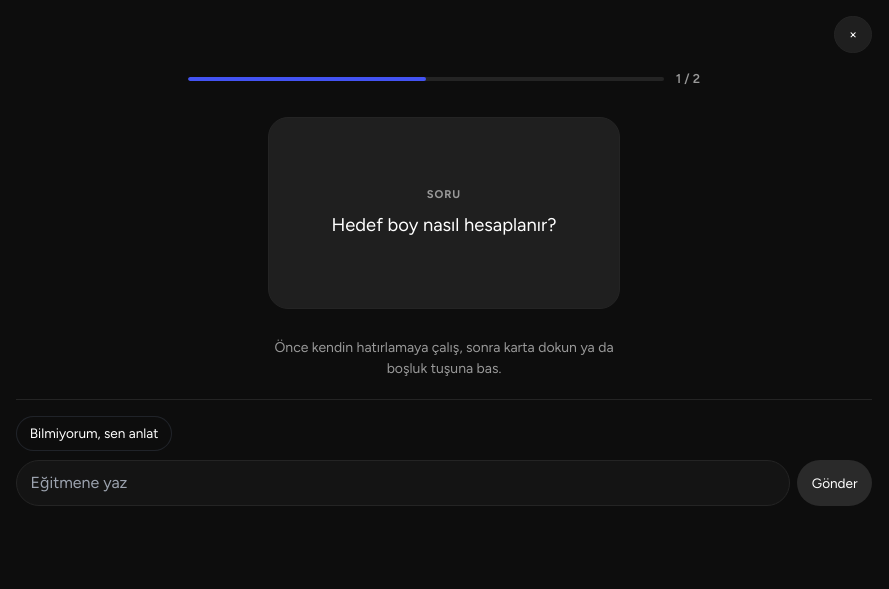
Scenario: exam-prep flashcards — reveal before self-assessment › moves to the next card with the question side and self-assessment hidden again
Expected: the text "Hedef boy nasıl hesaplanır?" is shown, x1=332 y1=214 x2=556 y2=236
Click the button with aria-label "Kartı çevir, cevabı göster".
click(444, 213)  # box x1=268 y1=117 x2=620 y2=309
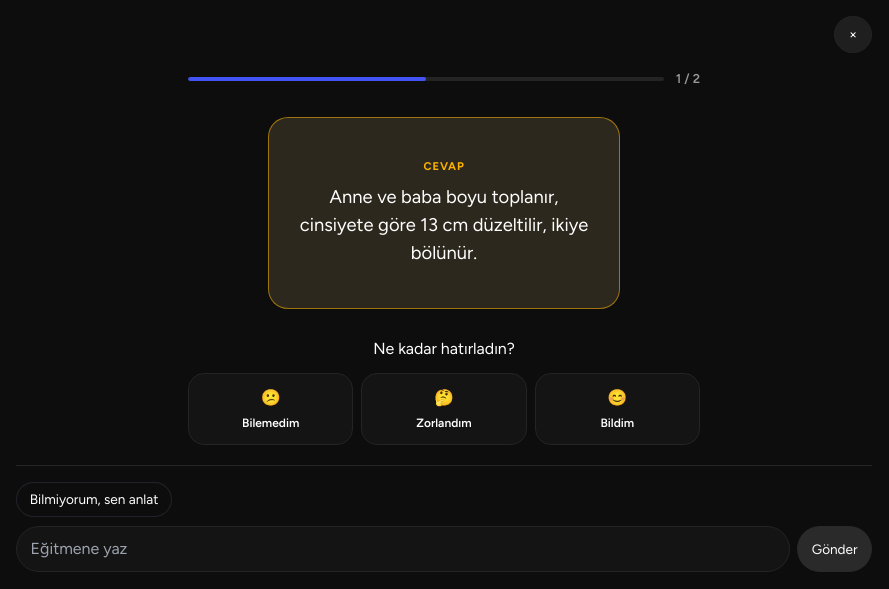
Click the button "😊 Bildim".
click(617, 409)  # box x1=535 y1=373 x2=700 y2=445
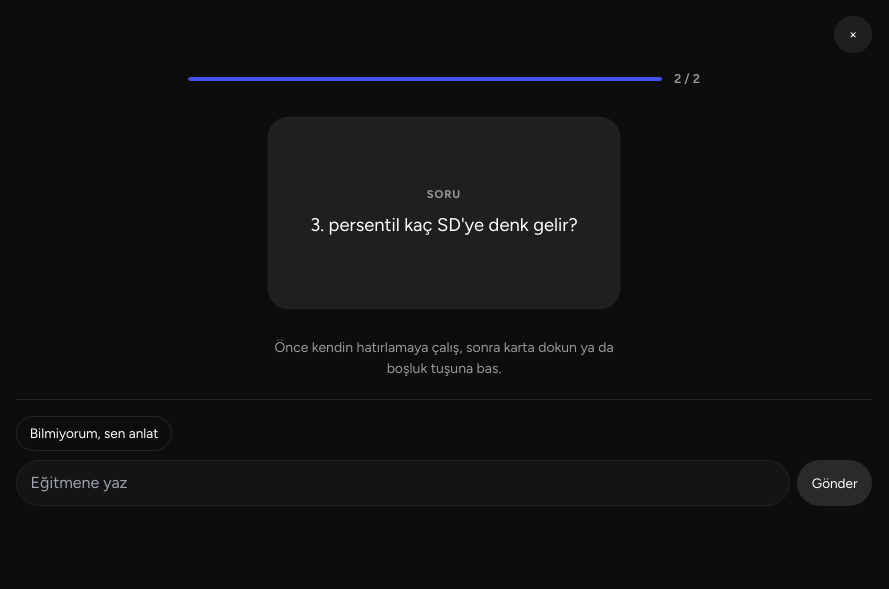
Result: the text "3. persentil kaç SD'ye denk gelir?" is shown at x1=310 y1=214 x2=578 y2=236
Result: the text "2 / 2" is shown at x1=674 y1=69 x2=700 y2=89
Result: the button "Bildim" is gone
